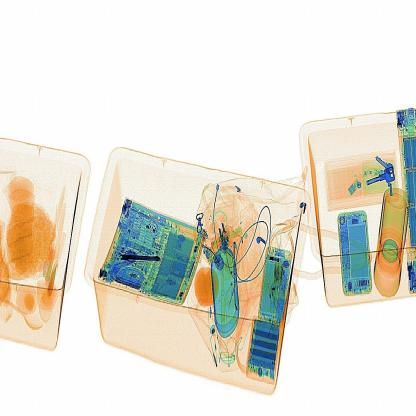knife: (114, 249, 168, 273)
